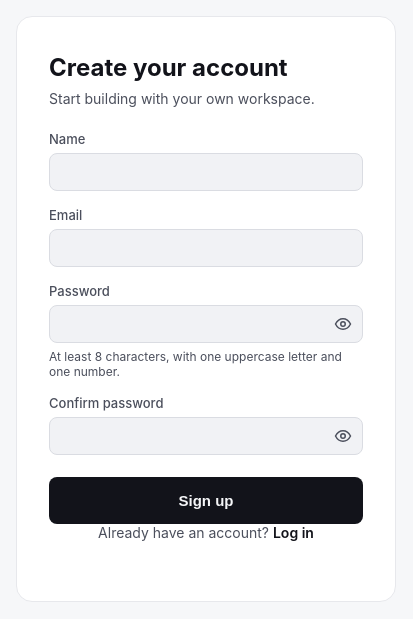
Test: Register — show/hide password toggle › toggles the password field independently from the confirm-password field
In the field labelled "Name": (206, 172) left=49, top=153, right=363, bottom=191, type "Ada Lovelace"
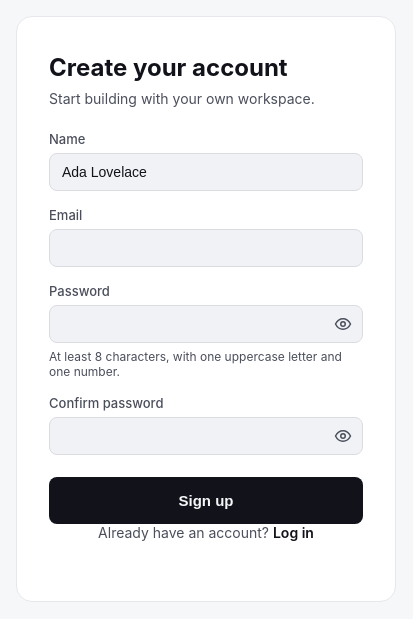
In the field labelled "Email": (206, 248) left=49, top=229, right=363, bottom=267, type "ada@example.com"
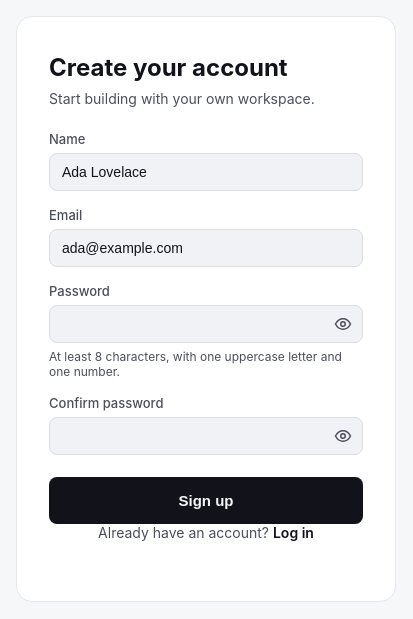
In the password field labelled "Password": (206, 324) left=49, top=305, right=363, bottom=343, type "Abcdefg1"
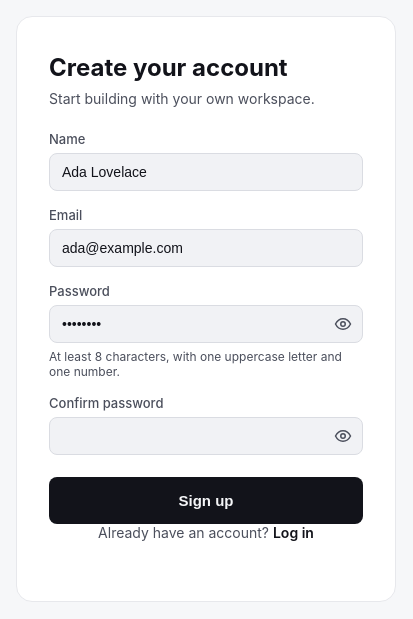
In the password field labelled "Confirm password": (206, 436) left=49, top=417, right=363, bottom=455, type "Abcdefg1"
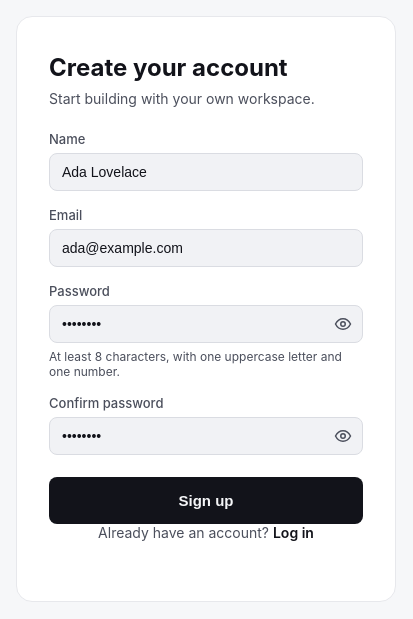
Click the 1st button named "Show password": click(343, 324) left=329, top=310, right=357, bottom=338
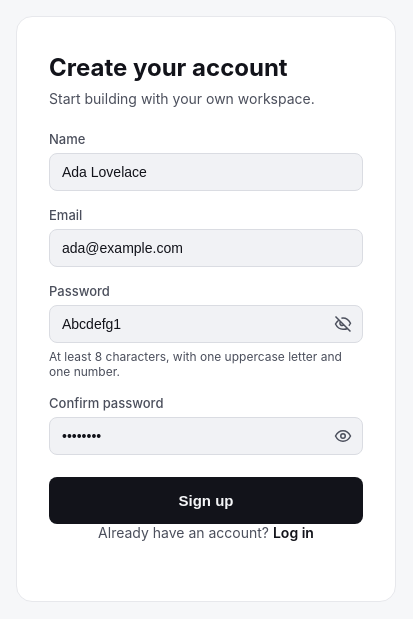
expect the button named "Show password" is shown: met, box left=329, top=422, right=357, bottom=450
expect the field labelled "Password" shows its text: met, box left=49, top=305, right=363, bottom=343
